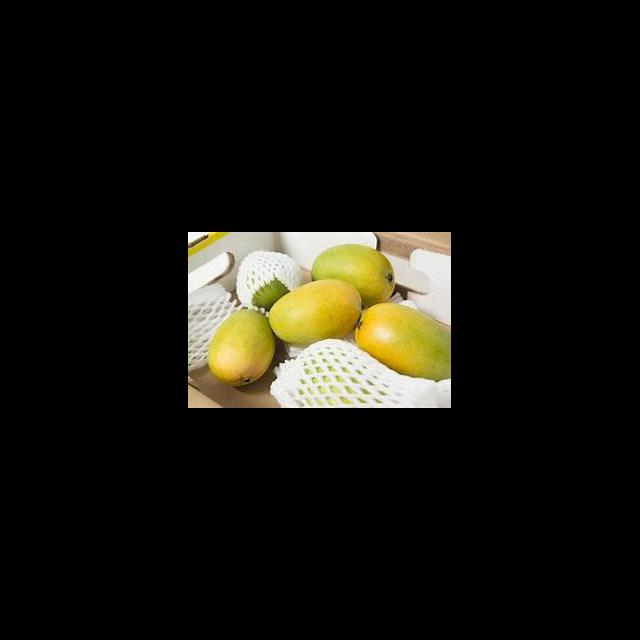mango: (269, 280, 362, 345), (313, 244, 396, 307), (209, 310, 275, 385)
